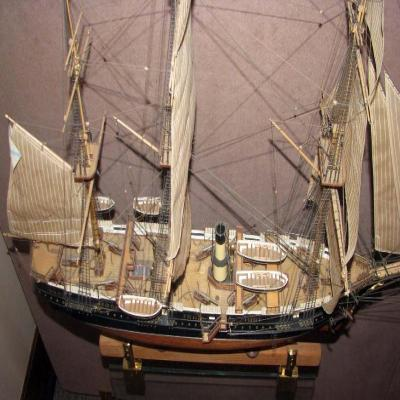other: (0, 0, 46, 6)
